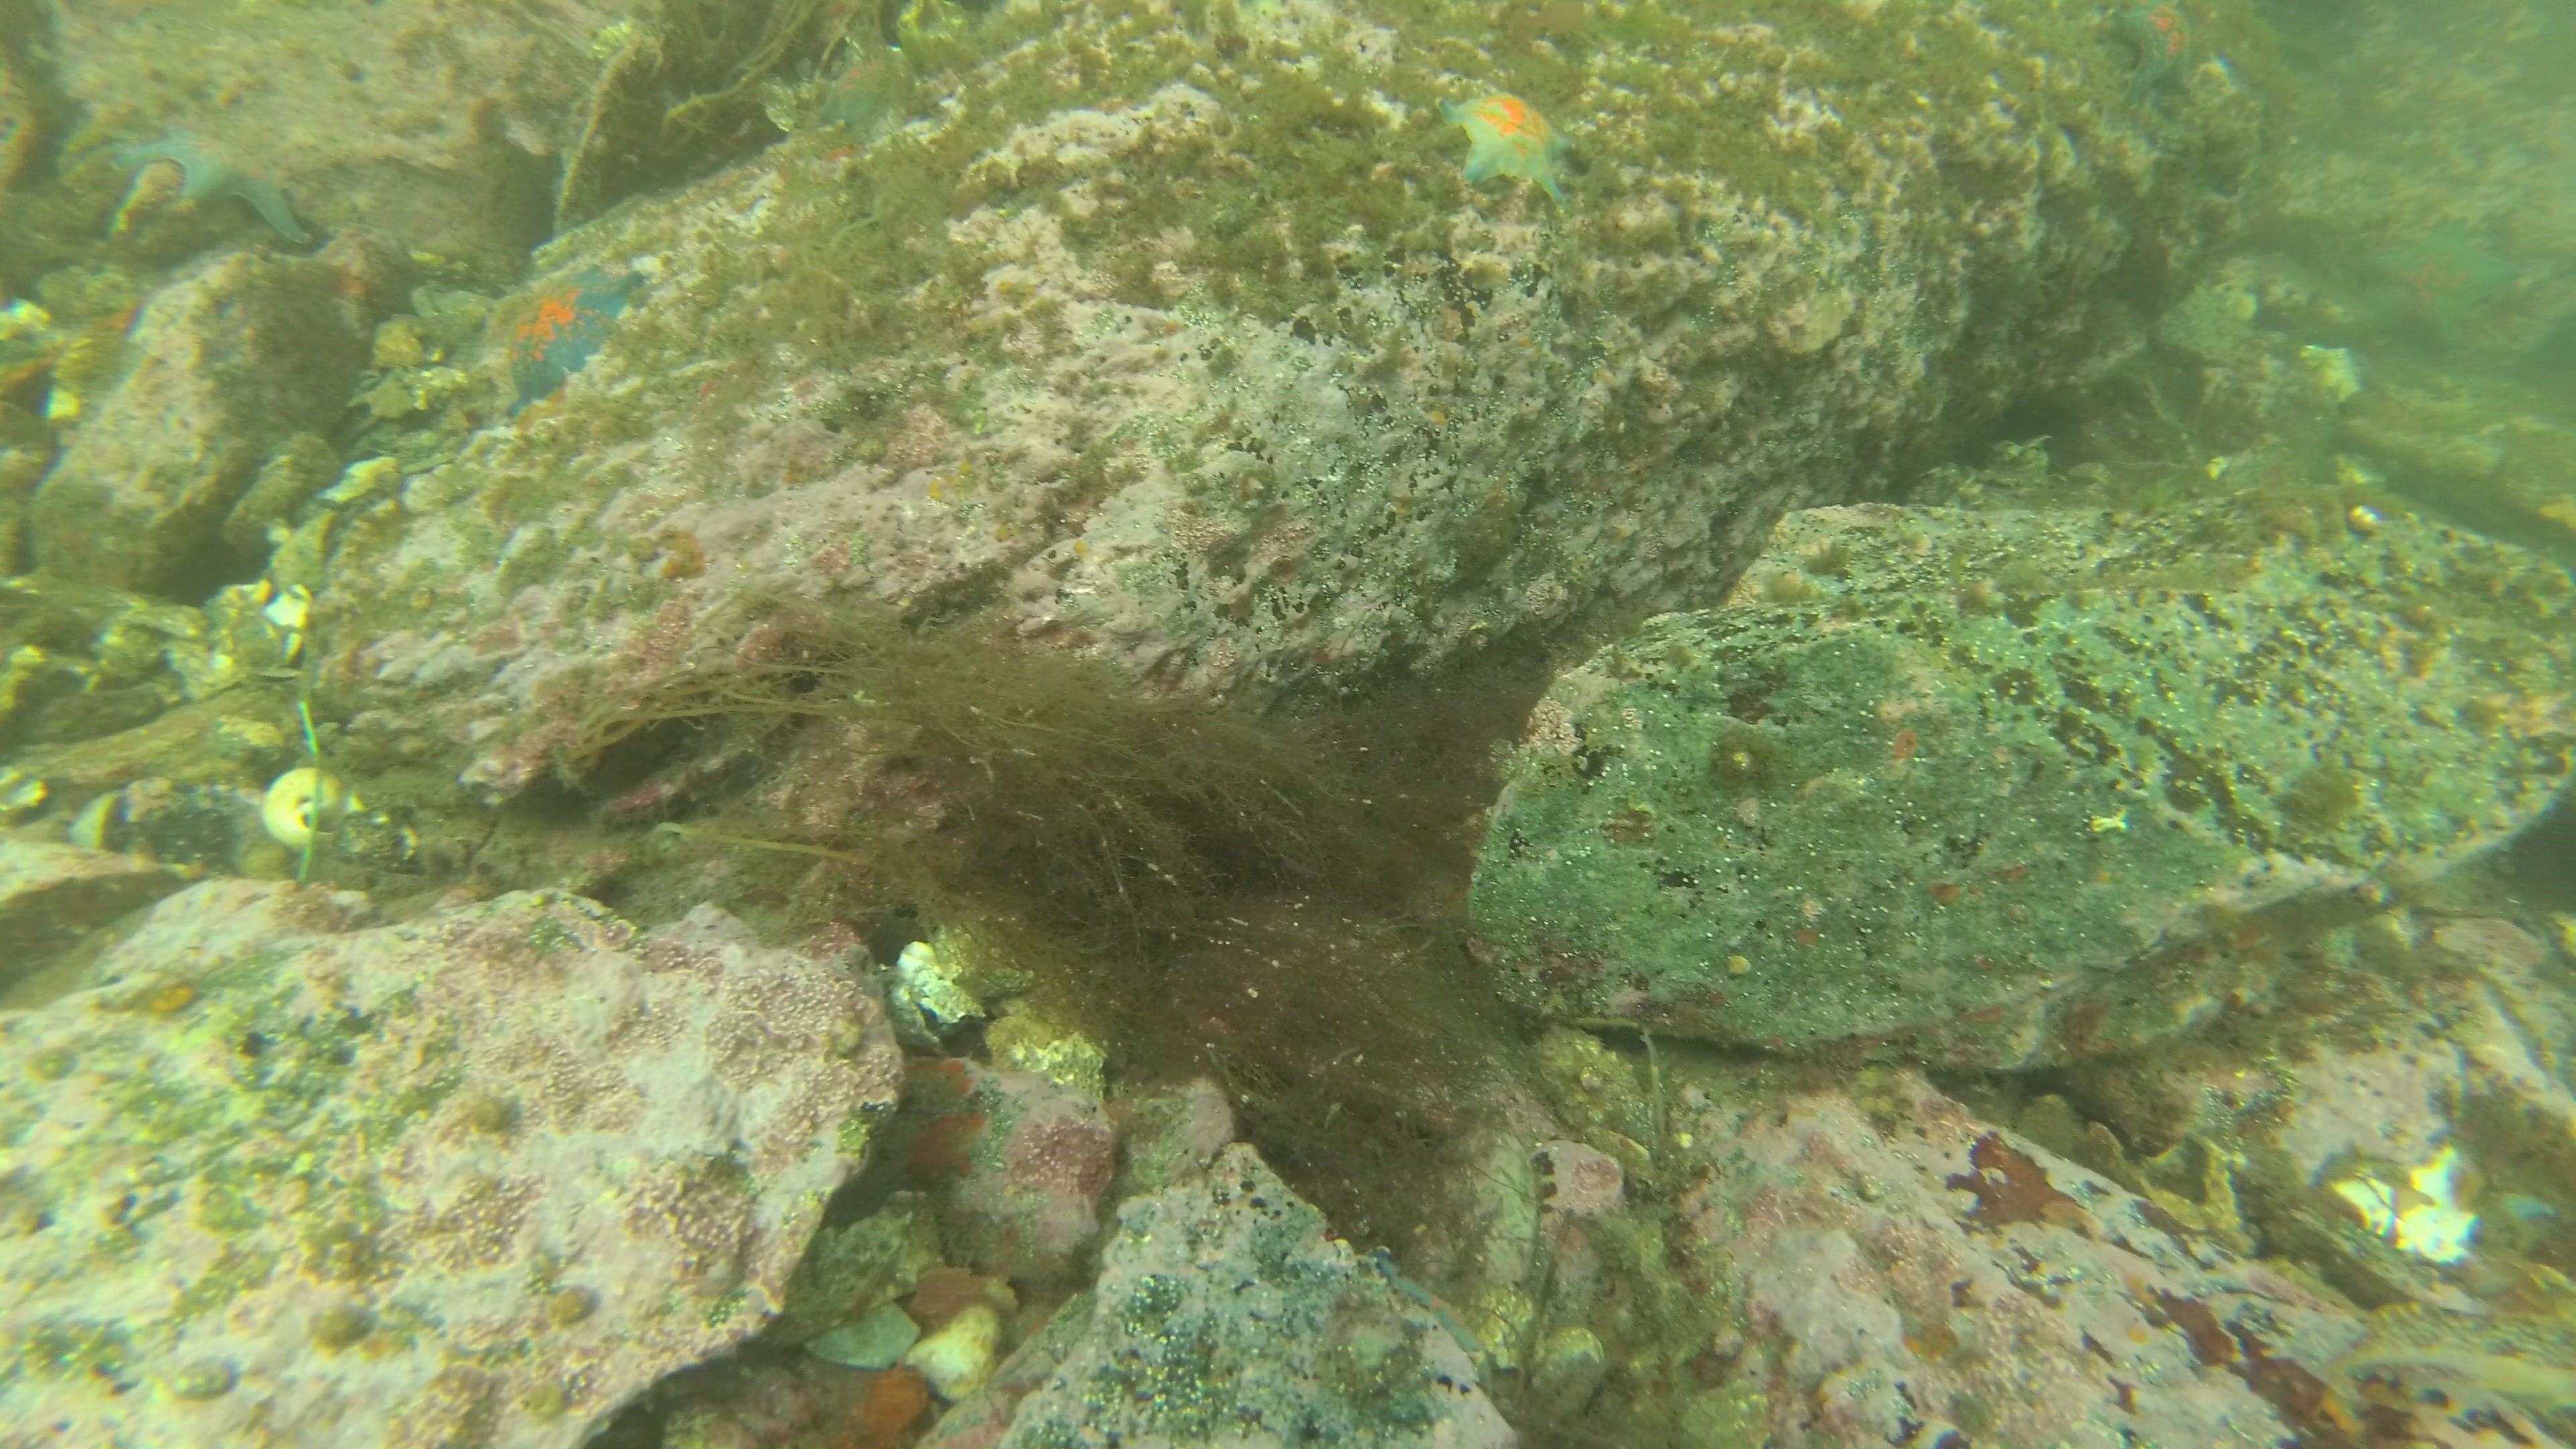starfish: (2337, 216, 2521, 350), (506, 264, 644, 423), (113, 138, 313, 244), (1435, 94, 1576, 203), (812, 53, 924, 129), (2120, 4, 2192, 108)
